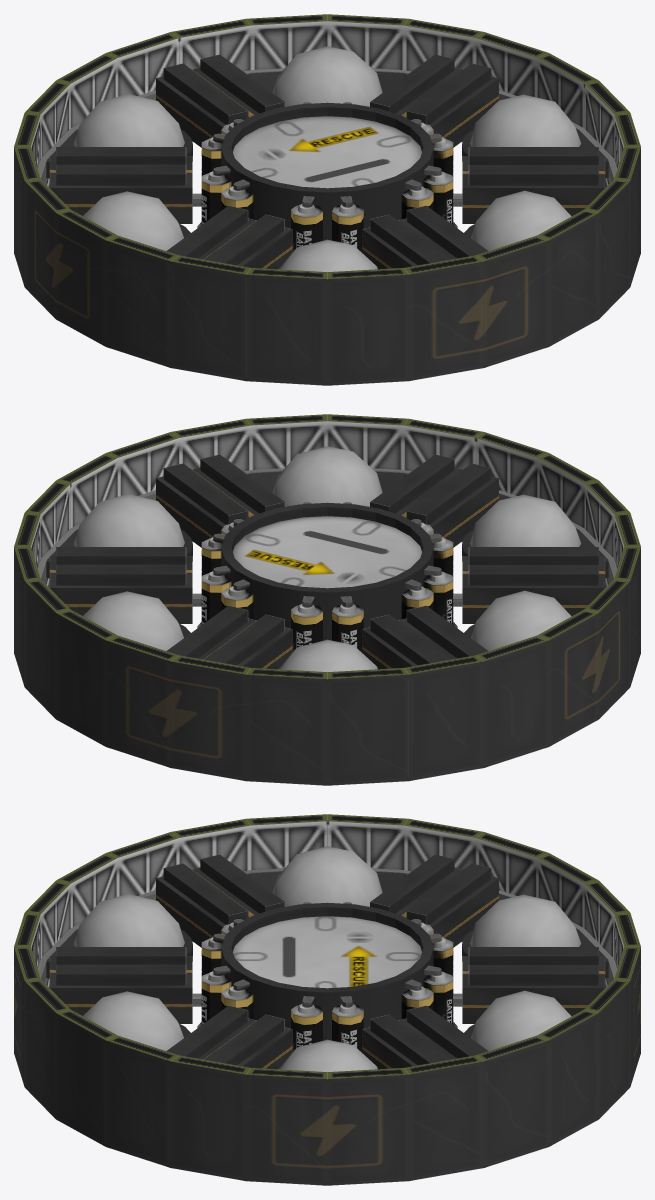
File: PowerModule.FBX
3 views of the same model, one above another, from view 1: azimuth 30°, elevation 25°; view 2: azimuth 150°, elevation 25°; view 3: azimuth 270°, elevation 25° (orthographic).
Parts seen in each view (by area): view 1: MainBody, Cylinder047, MonoTank006, MonoTank007, MonoTank005, MonoTank004, MonoTank002, AvionicsBox012, AvionicsBox018, AvionicsBox013, AvionicsBox020, AvionicsBox009 (+24 smaller); view 2: MainBody, Cylinder047, MonoTank004, MonoTank005, MonoTank003, MonoTank002, MonoTank006, AvionicsBox021, AvionicsBox015, AvionicsBox022, AvionicsBox017, AvionicsBox018 (+24 smaller); view 3: MainBody, Cylinder047, MonoTank002, MonoTank003, MonoTank007, MonoTank006, MonoTank004, AvionicsBox005, AvionicsBox009, AvionicsBox008, AvionicsBox011, AvionicsBox015 (+24 smaller).
Boxes of the visible parts, box(x1,y1,x2,y2) form: MainBody: box(14, 14, 640, 385); Cylinder047: box(221, 102, 433, 240); MonoTank006: box(273, 46, 382, 106); MonoTank007: box(74, 94, 184, 146); MonoTank005: box(470, 94, 581, 146); MonoTank004: box(471, 190, 571, 250); MonoTank002: box(83, 191, 183, 250); AvionicsBox012: box(49, 156, 192, 223); AvionicsBox018: box(462, 156, 605, 223); AvionicsBox013: box(56, 164, 186, 185); AvionicsBox020: box(468, 165, 598, 185); AvionicsBox009: box(156, 67, 258, 147); MainBody: box(14, 414, 640, 785); Cylinder047: box(221, 502, 433, 640); MonoTank004: box(273, 446, 382, 506); MonoTank005: box(74, 494, 184, 546); MonoTank003: box(470, 494, 581, 546); MonoTank002: box(471, 590, 571, 650); MonoTank006: box(83, 591, 183, 650); AvionicsBox021: box(49, 556, 192, 623); AvionicsBox015: box(462, 556, 605, 623); AvionicsBox022: box(56, 564, 186, 585); AvionicsBox017: box(468, 565, 598, 585); AvionicsBox018: box(156, 467, 258, 547); MainBody: box(14, 814, 640, 1185); Cylinder047: box(221, 902, 433, 1040); MonoTank002: box(273, 846, 382, 906); MonoTank003: box(74, 894, 184, 946); MonoTank007: box(470, 894, 581, 946); MonoTank006: box(471, 990, 571, 1050); MonoTank004: box(83, 991, 183, 1050); AvionicsBox005: box(49, 956, 192, 1023); AvionicsBox009: box(462, 956, 605, 1023); AvionicsBox008: box(56, 964, 186, 985); AvionicsBox011: box(468, 965, 598, 985); AvionicsBox015: box(156, 867, 258, 947).
Size of what is drawn, in the model's own units: 1.87 by 0.3517 by 1.87.
